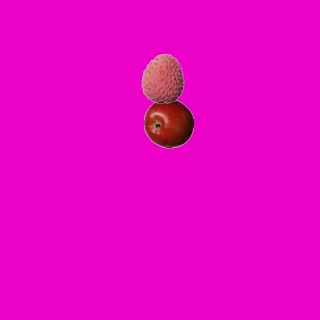Apple Braeburn: (143, 98, 193, 148)
Lychee: (137, 53, 187, 103)
